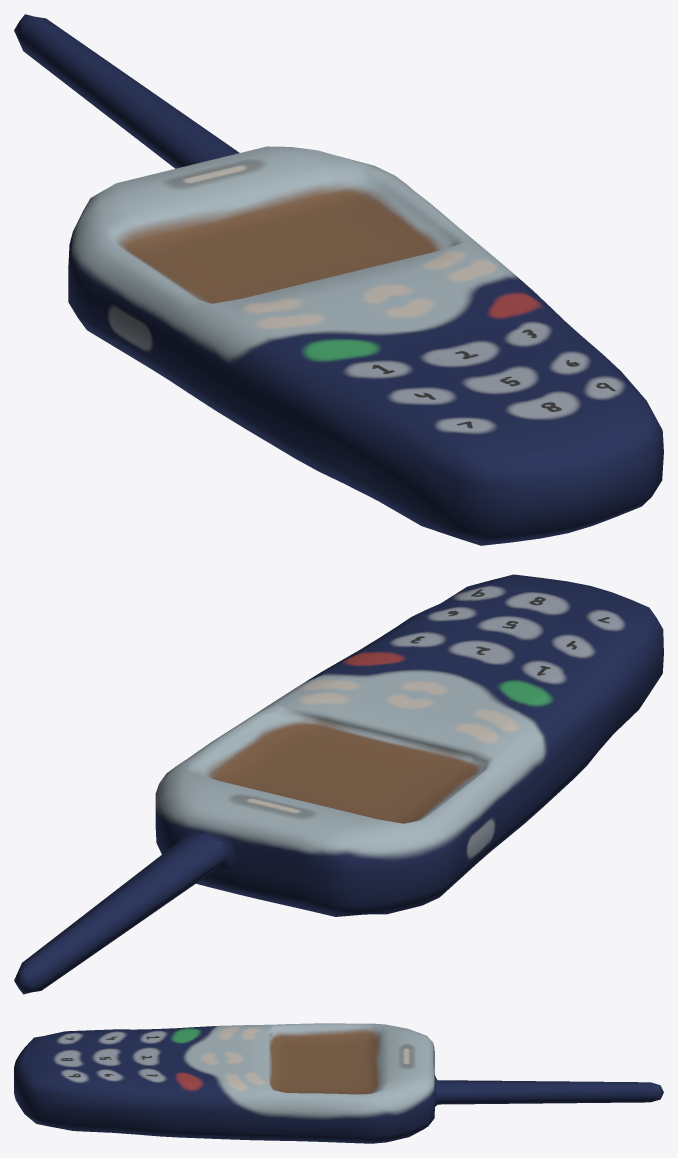
Rendered from phone.fbx.
The picture shows the model from 3 angles, top to bottom: view 1: azimuth 30°, elevation 25°; view 2: azimuth 150°, elevation 25°; view 3: azimuth 270°, elevation 25°; orthographic projection. The views are drawn at different scales.
Visible parts, largest first — view 1: pCube1; view 2: pCube1; view 3: pCube1.
Boxes of the visible parts, box(x1,y1,x2,y2) form: pCube1: box(14, 14, 663, 545); pCube1: box(14, 574, 663, 994); pCube1: box(14, 1023, 663, 1143).
Size of the model in its own units: 12.8 by 41.05 by 3.61.
1 material, 1 textured.
